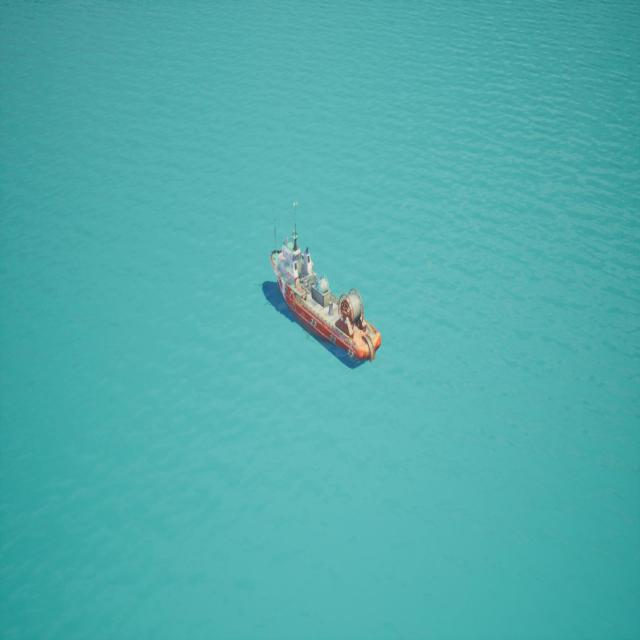tug boat: (265, 200, 361, 370)
